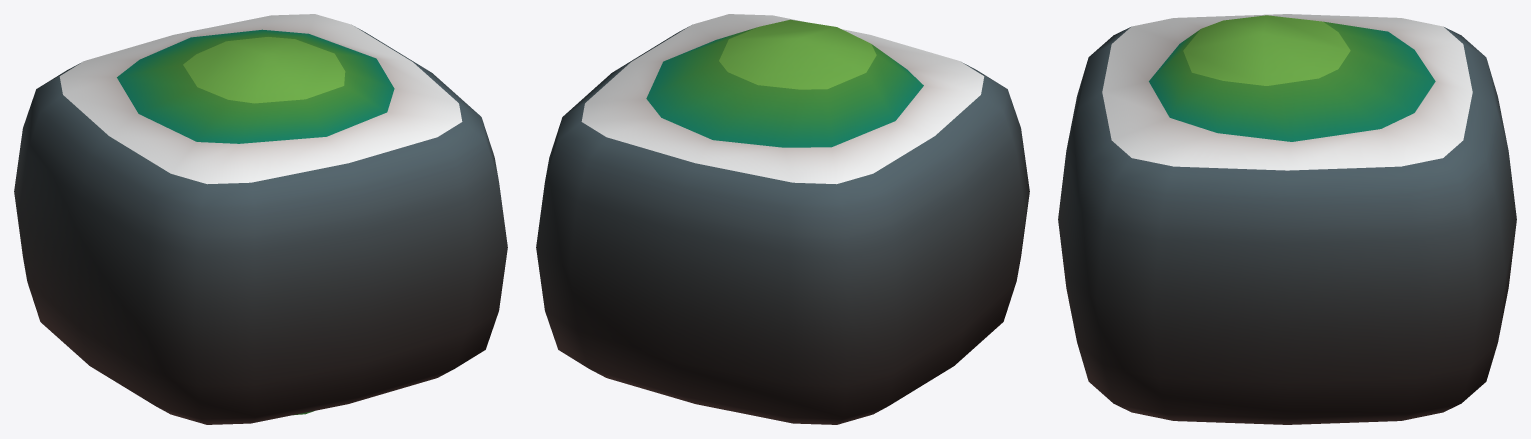
The model's file is roll_005.fbx.
3 renders of one model, left to right at view 1: azimuth 30°, elevation 25°; view 2: azimuth 150°, elevation 25°; view 3: azimuth 270°, elevation 25°, orthographic. The views are drawn at different scales.
Visible parts, largest first — view 1: roll_005; view 2: roll_005; view 3: roll_005.
Part boxes in pixels (left/top/right/bottom): roll_005: left=14, top=14, right=507, bottom=424; roll_005: left=536, top=14, right=1029, bottom=424; roll_005: left=1058, top=14, right=1516, bottom=424.
Bounding box in the file's own units: 4.45 × 4.45 × 3.92.
